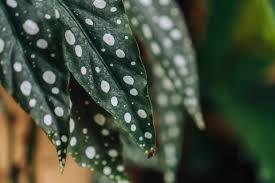leaf_spot: (4, 1, 196, 170)
